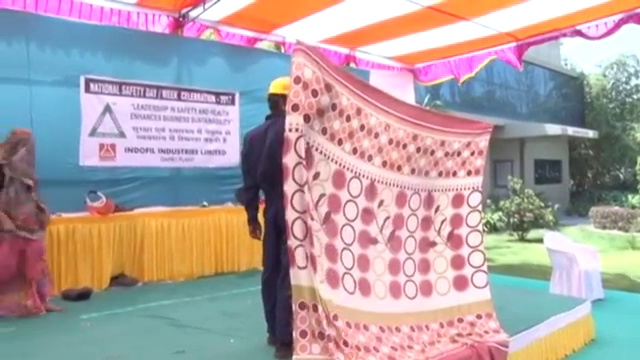helmet: (267, 74, 294, 98)
helmet_off: (6, 126, 34, 160)
helmet_on: (265, 75, 296, 119)
person: (238, 74, 293, 358), (1, 124, 59, 319)
